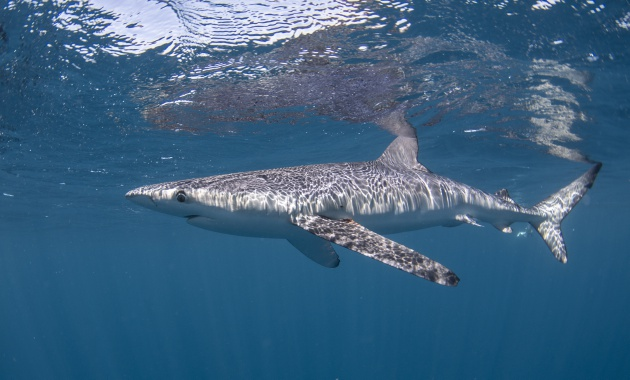Azul: (120, 118, 606, 292)
